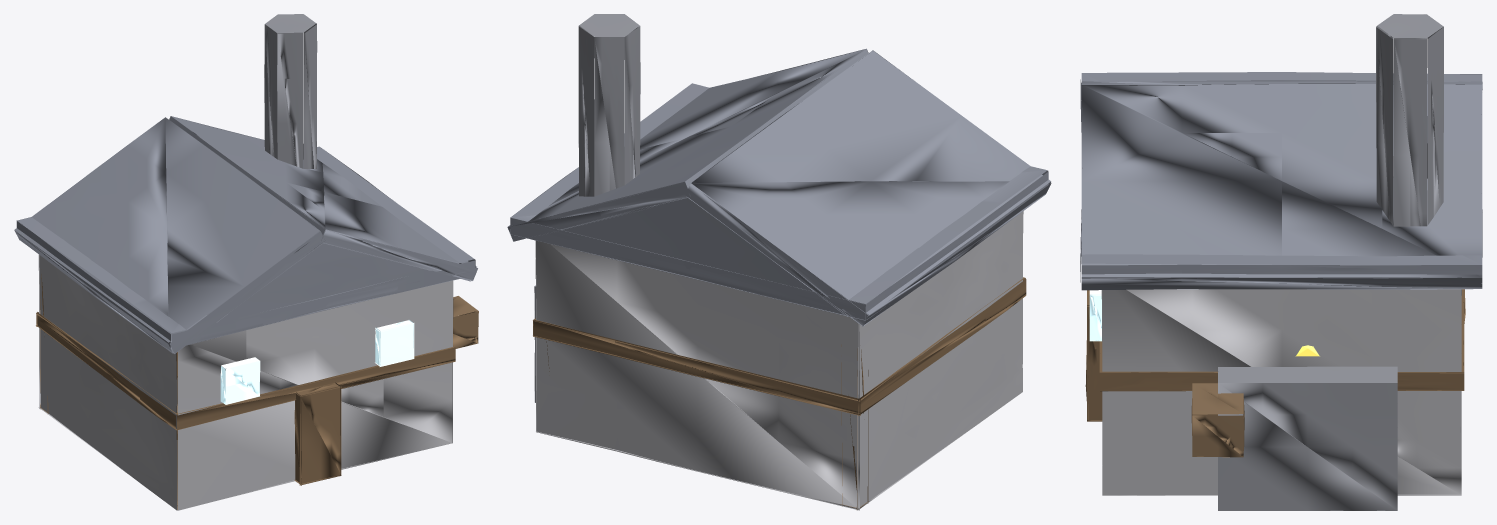
The model's file is blacksmith.glb.
3 renders of one model, left to right at view 1: azimuth 30°, elevation 25°; view 2: azimuth 150°, elevation 25°; view 3: azimuth 270°, elevation 25°, orthographic. The views are drawn at different scales.
Visible parts, largest first — view 1: BlacksmithWall; view 2: BlacksmithWall; view 3: BlacksmithWall.
Boxes of the visible parts, x1=… form: BlacksmithWall: x1=14, y1=14, x2=478, y2=510; BlacksmithWall: x1=507, y1=14, x2=1051, y2=510; BlacksmithWall: x1=1080, y1=14, x2=1482, y2=510.
Size of the model in its own units: 2.06 by 1.91 by 1.57.
